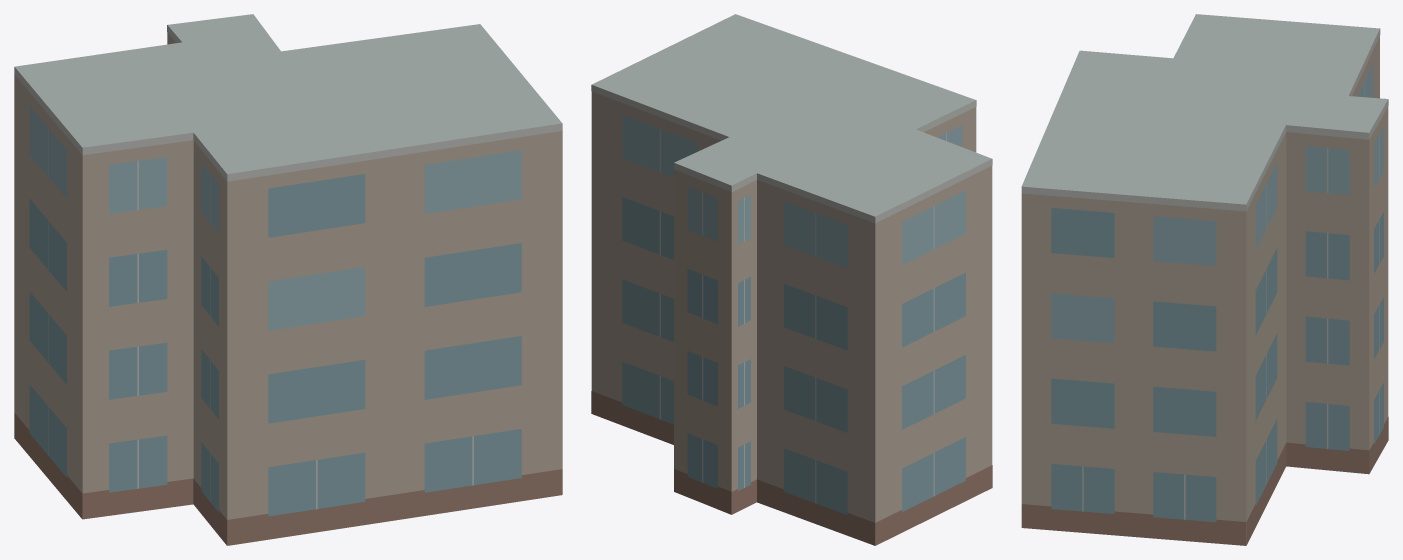
Rendered from survey-upis-32964995.glb.
3 views of the same model, side by side, from view 1: azimuth 30°, elevation 25°; view 2: azimuth 150°, elevation 25°; view 3: azimuth 270°, elevation 25° (orthographic). The views are drawn at different scales.
Visible parts, largest first — view 1: survey-upis-32964995.tmp; view 2: survey-upis-32964995.tmp; view 3: survey-upis-32964995.tmp.
Boxes of the visible parts, box(x1,y1,x2,y2) form: survey-upis-32964995.tmp: box(14, 14, 562, 545); survey-upis-32964995.tmp: box(591, 14, 992, 545); survey-upis-32964995.tmp: box(1021, 14, 1388, 545).
Size of the model in its own units: 14.62 by 12.2 by 11.9.
